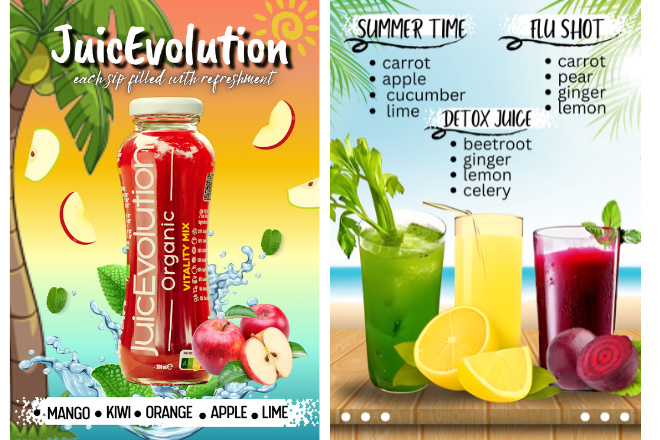Headline: (50, 19, 293, 68)
Product: (341, 209, 635, 392), (102, 93, 234, 382)
